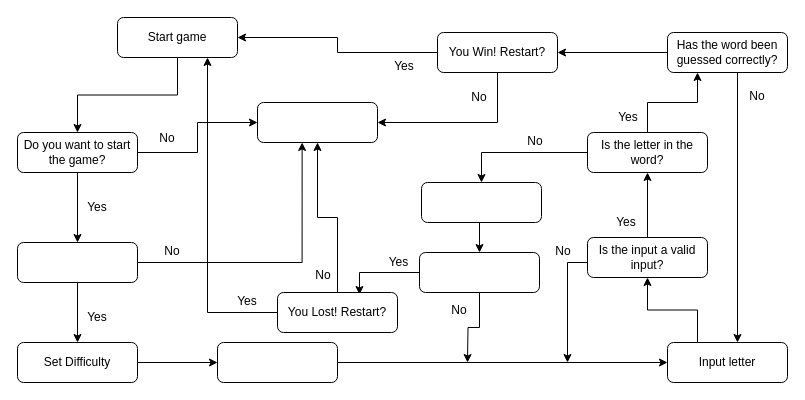
The diagram is 805 pixels wide and 400 high, and some of its shapes have lost their labels. Here are the shapes that lost their labels. From the top down, the centre of each, then its label:
(x=317, y=122): Exit game
(x=481, y=202): +1 incorrect guess
(x=77, y=262): Rules menu, continue?
(x=479, y=272): 8 incorrect guesses?
(x=277, y=362): Generate random word
